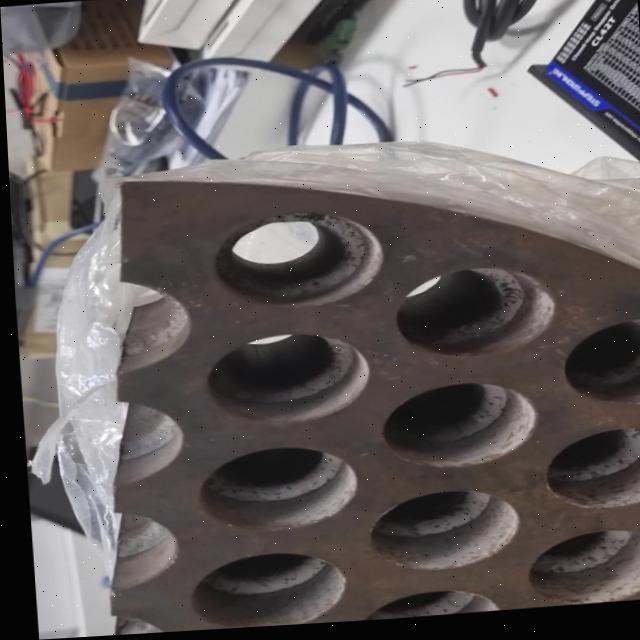Hole: (204, 209, 383, 314), (200, 332, 368, 431), (389, 268, 554, 365), (190, 444, 355, 538), (373, 383, 534, 477), (360, 490, 516, 579), (182, 549, 342, 633), (518, 531, 640, 613), (532, 431, 640, 518), (554, 325, 640, 415)
